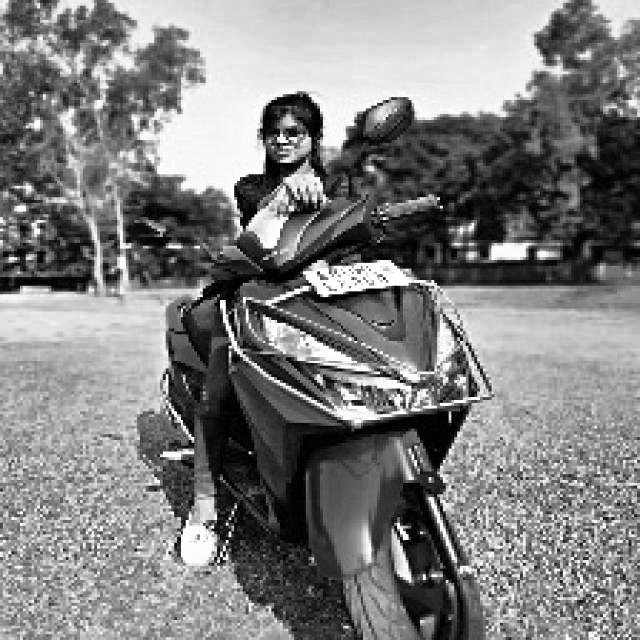Bike: (140, 211, 513, 639)
